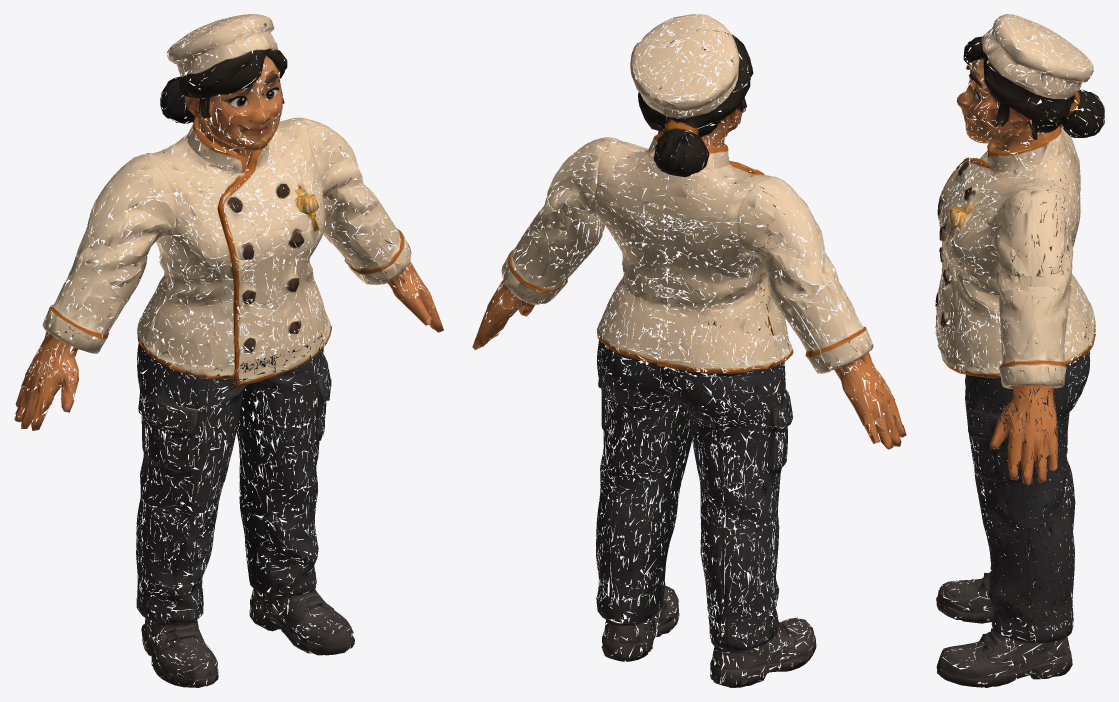
The model's file is lantern-chef.glb.
The picture shows the model from 3 angles, left to right: view 1: azimuth 30°, elevation 25°; view 2: azimuth 150°, elevation 25°; view 3: azimuth 270°, elevation 25°; orthographic projection.
Parts seen in each view (by area): view 1: tripo_node_a6c31889-6222-4395-89d3-a25ba90537ca; view 2: tripo_node_a6c31889-6222-4395-89d3-a25ba90537ca; view 3: tripo_node_a6c31889-6222-4395-89d3-a25ba90537ca.
Part boxes in pixels (x1,y1,x2,y2): tripo_node_a6c31889-6222-4395-89d3-a25ba90537ca: [14, 14, 443, 687]; tripo_node_a6c31889-6222-4395-89d3-a25ba90537ca: [472, 14, 906, 687]; tripo_node_a6c31889-6222-4395-89d3-a25ba90537ca: [935, 14, 1104, 687].
Size of the model in its own units: 0.6649 by 0.9615 by 0.2359.
1 material, 1 textured.
